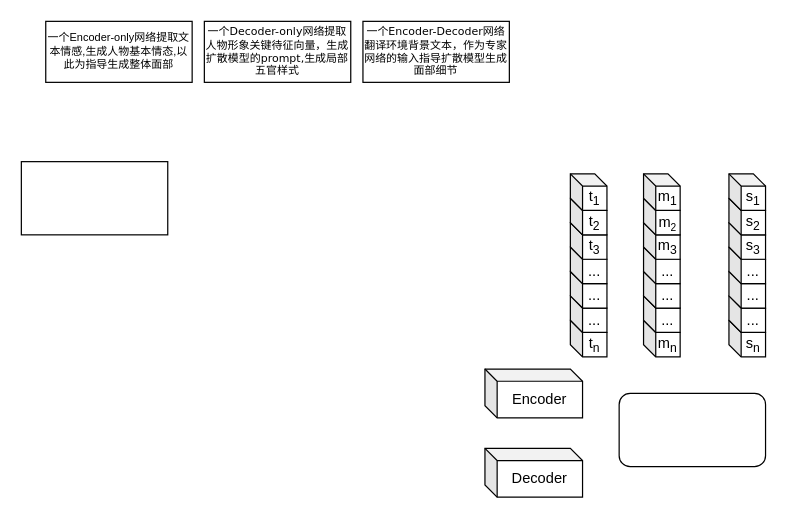
Some shapes in this 787 by 519 pixel diagram are drawn without their labels. The centre of each missing label's shape, as x and y in pixels:
Embedding: the point at 692,429
案发现场环境描述: the point at 94,197
